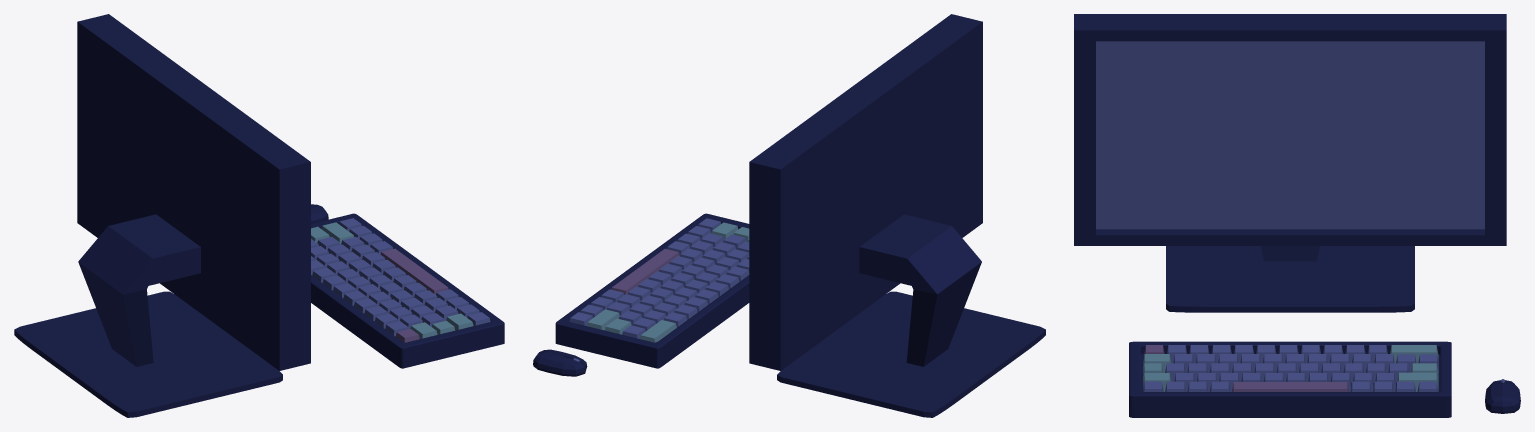
The model's file is computer.fbx.
The picture shows the model from 3 angles, left to right: view 1: azimuth 30°, elevation 25°; view 2: azimuth 150°, elevation 25°; view 3: azimuth 270°, elevation 25°; orthographic projection. The views are drawn at different scales.
Visible parts, largest first — view 1: Cube, Cube.017; view 2: Cube, Cube.017, Plane.001; view 3: Cube, Cube.017, Plane.001.
Part boxes in pixels (box(x1,y1,x2,y2)): Cube: box(14, 14, 310, 417); Cube.017: box(311, 213, 504, 368); Cube: box(749, 14, 1045, 417); Cube.017: box(555, 213, 749, 368); Plane.001: box(533, 349, 587, 376); Cube: box(1074, 14, 1506, 312); Cube.017: box(1129, 341, 1451, 417); Plane.001: box(1485, 379, 1520, 413).
Bounding box in the file's own units: 376 × 253 × 376.
